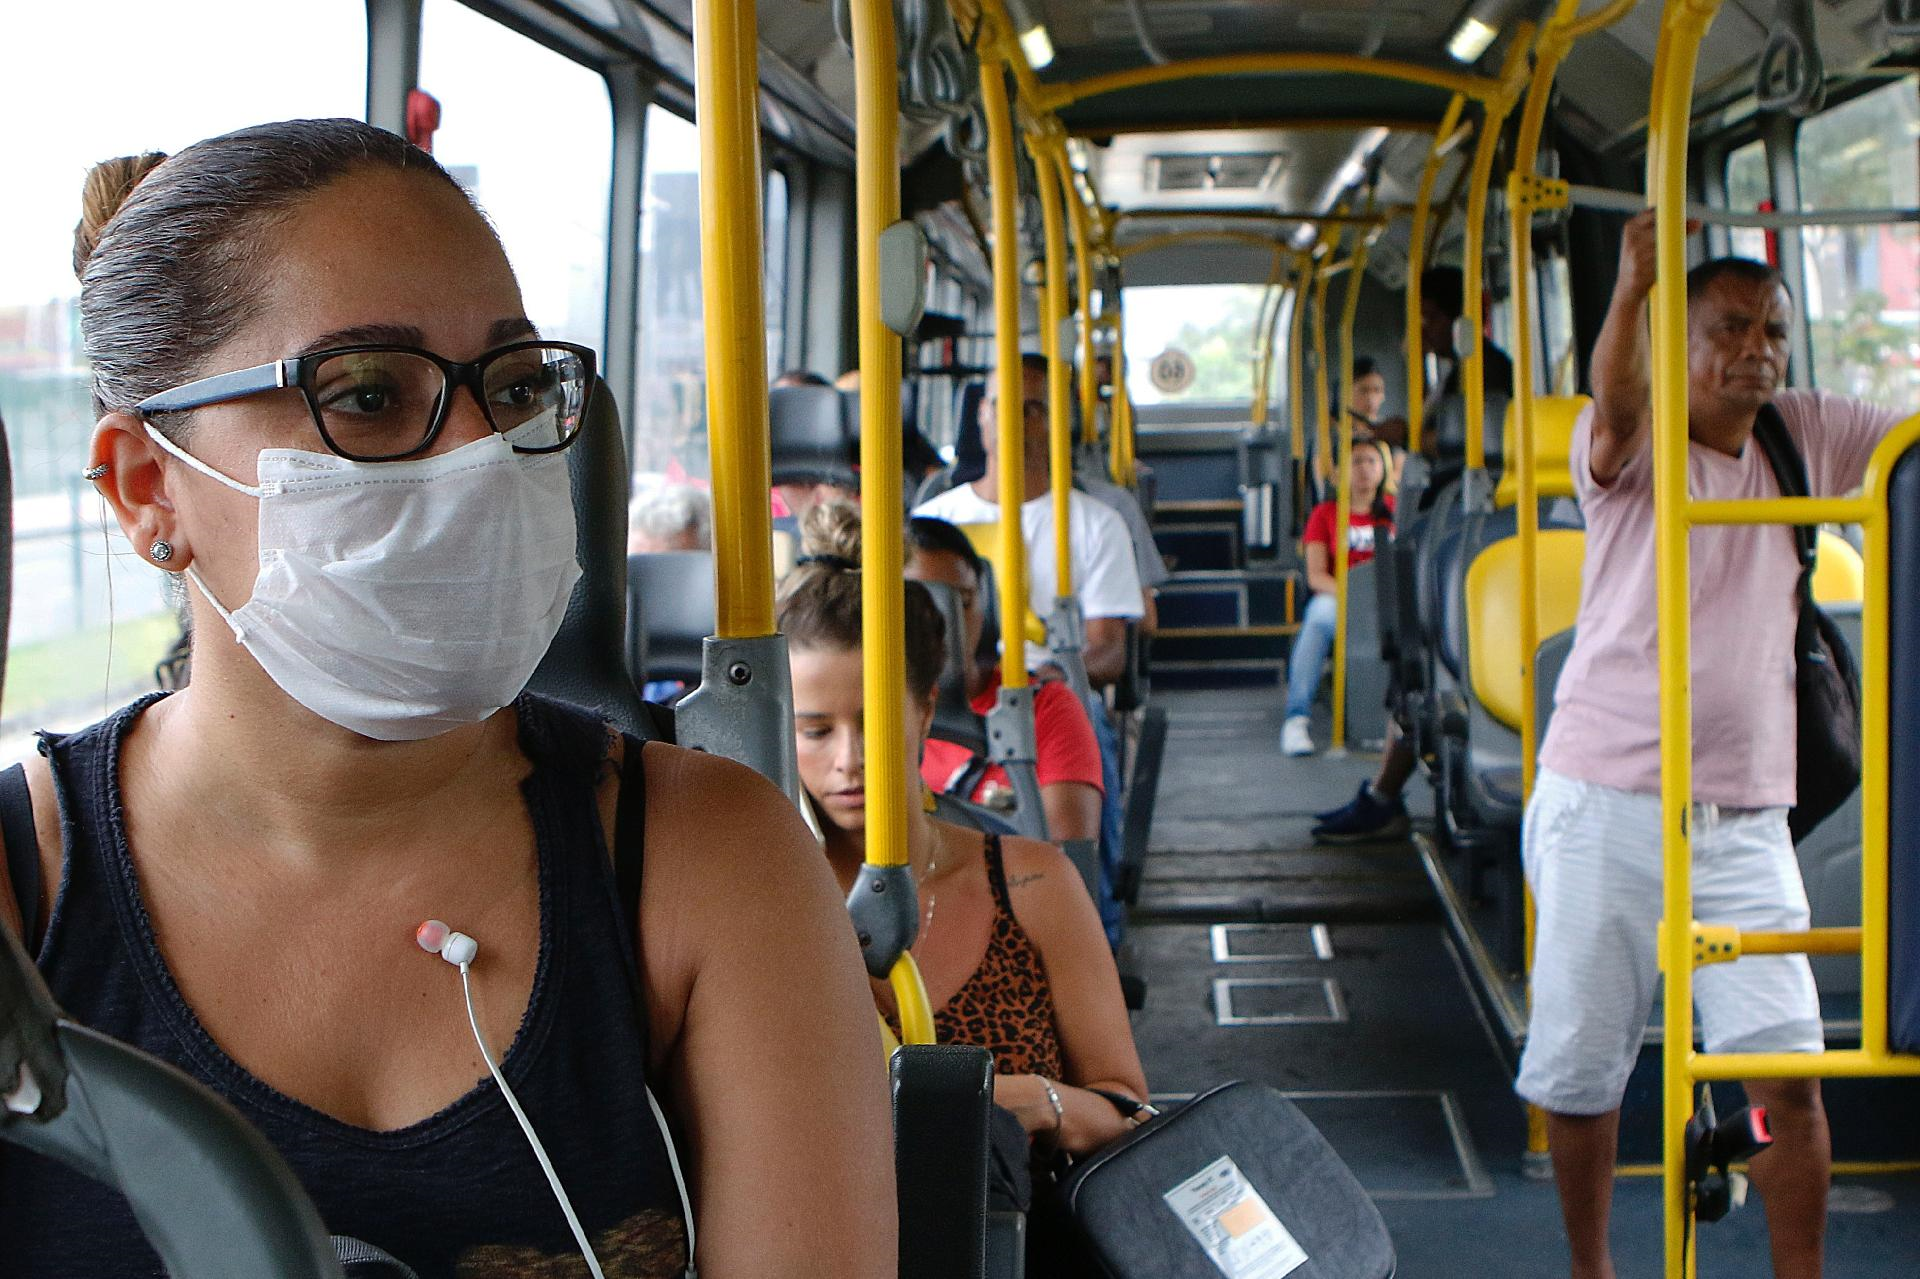with_mask: (73, 243, 604, 751)
without_mask: (766, 623, 938, 832), (1681, 279, 1799, 408)
